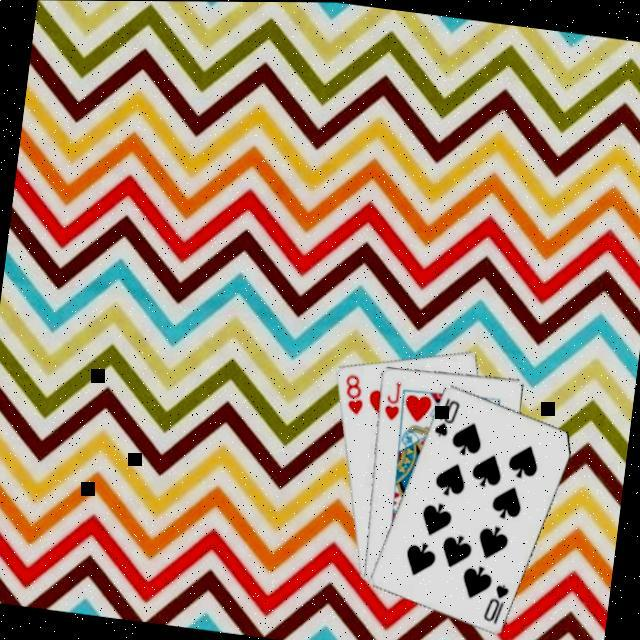10S: (432, 394, 465, 443), (481, 579, 514, 628)
8H: (339, 370, 370, 419)
JH: (381, 379, 406, 425)
